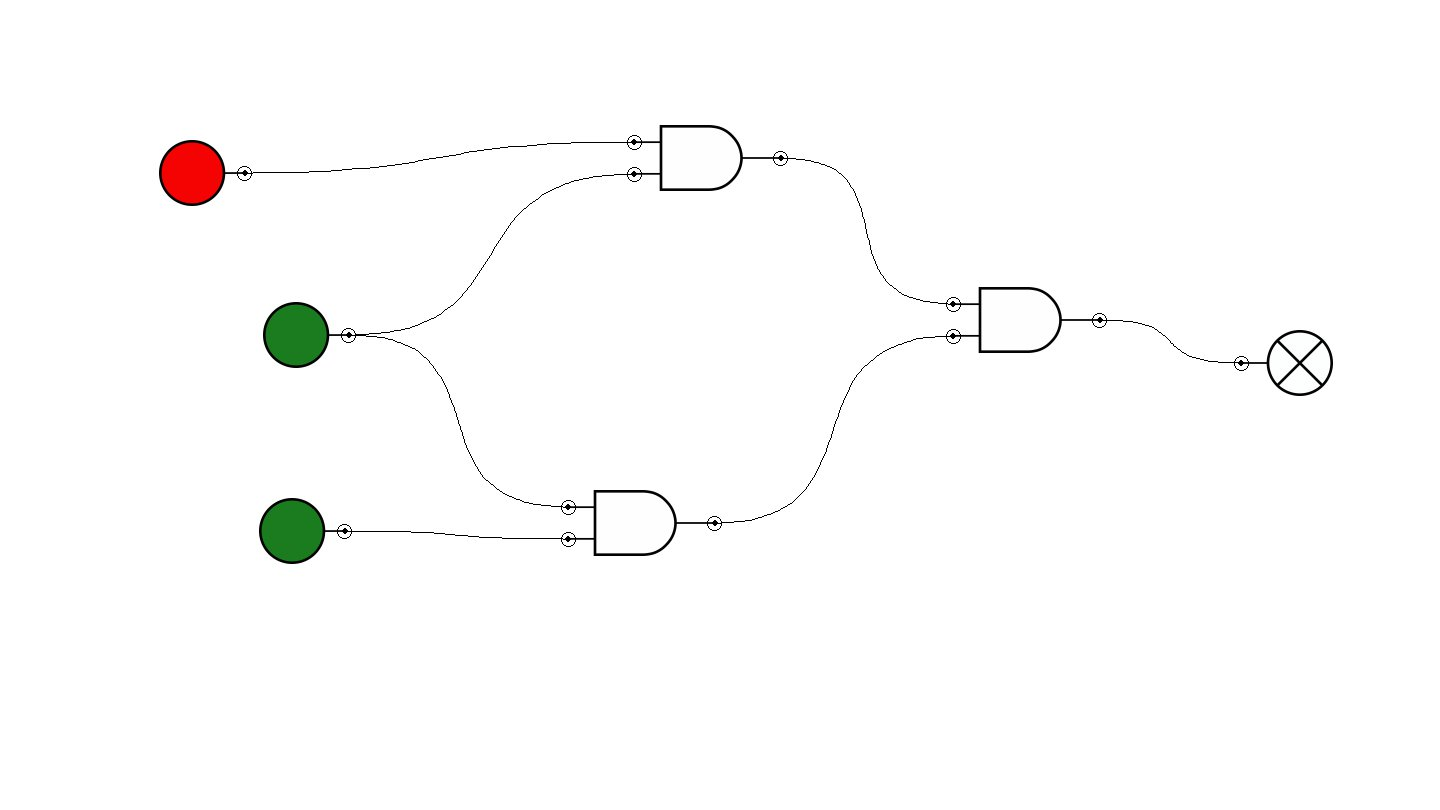and: (946, 287, 1107, 353), (561, 490, 722, 556), (627, 125, 788, 191)
bulb: (1234, 330, 1333, 396)
switch_False: (159, 140, 252, 206)
switch_True: (259, 498, 352, 564), (263, 302, 356, 368)
